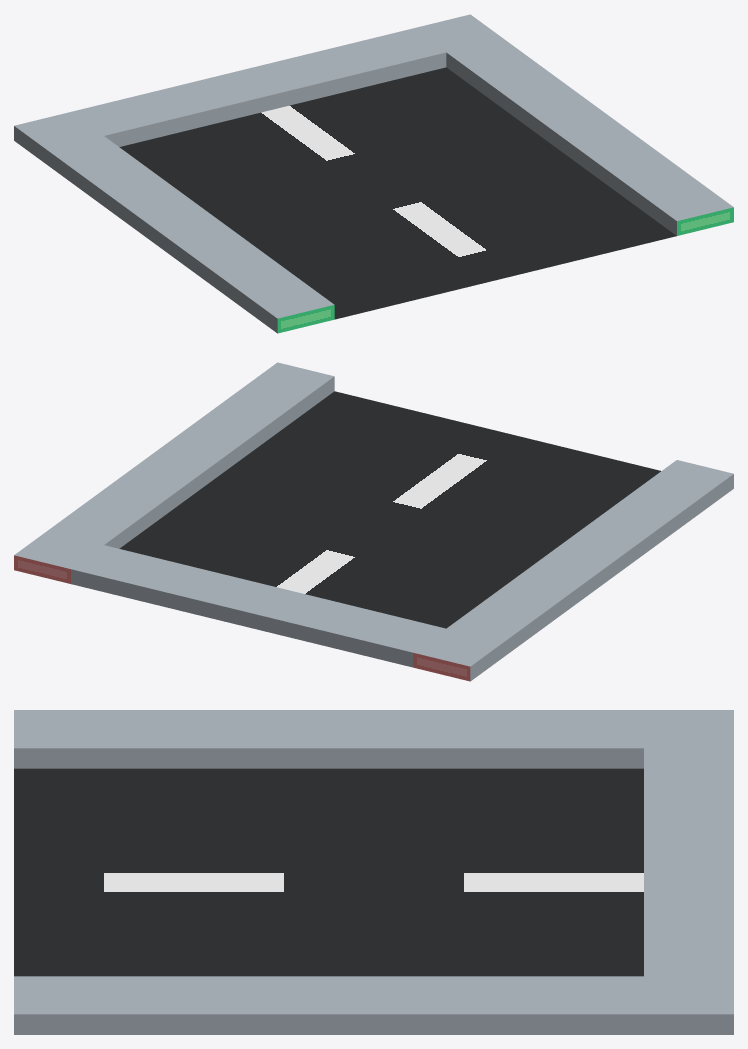
The model's file is Road-down.3aa34828.gltf.
3 views of the same model, one above another, from view 1: azimuth 30°, elevation 25°; view 2: azimuth 150°, elevation 25°; view 3: azimuth 270°, elevation 25° (orthographic). The views are drawn at different scales.
Parts seen in each view (by area): view 1: Road, Sidewalk Left, Sidewalk Right, Sidewalk South; view 2: Road, Sidewalk Left, Sidewalk Right, Sidewalk South; view 3: Road, Sidewalk Right, Sidewalk Left, Sidewalk South.
Boxes of the visible parts, box(x1,y1,x2,y2) form: Road: box(119, 67, 676, 319); Sidewalk Left: box(14, 112, 334, 333); Sidewalk Right: box(414, 14, 733, 235); Sidewalk South: box(71, 28, 446, 146); Road: box(119, 391, 660, 628); Sidewalk Left: box(413, 460, 733, 681); Sidewalk Right: box(14, 362, 334, 583); Sidewalk South: box(71, 545, 445, 667); Road: box(14, 768, 643, 976); Sidewalk Right: box(14, 976, 733, 1034); Sidewalk Left: box(14, 710, 733, 768); Sidewalk South: box(644, 748, 733, 976).
Size of the model in its own units: 2 by 0.0625 by 2.
Materials: 1 (1 with a texture image).
